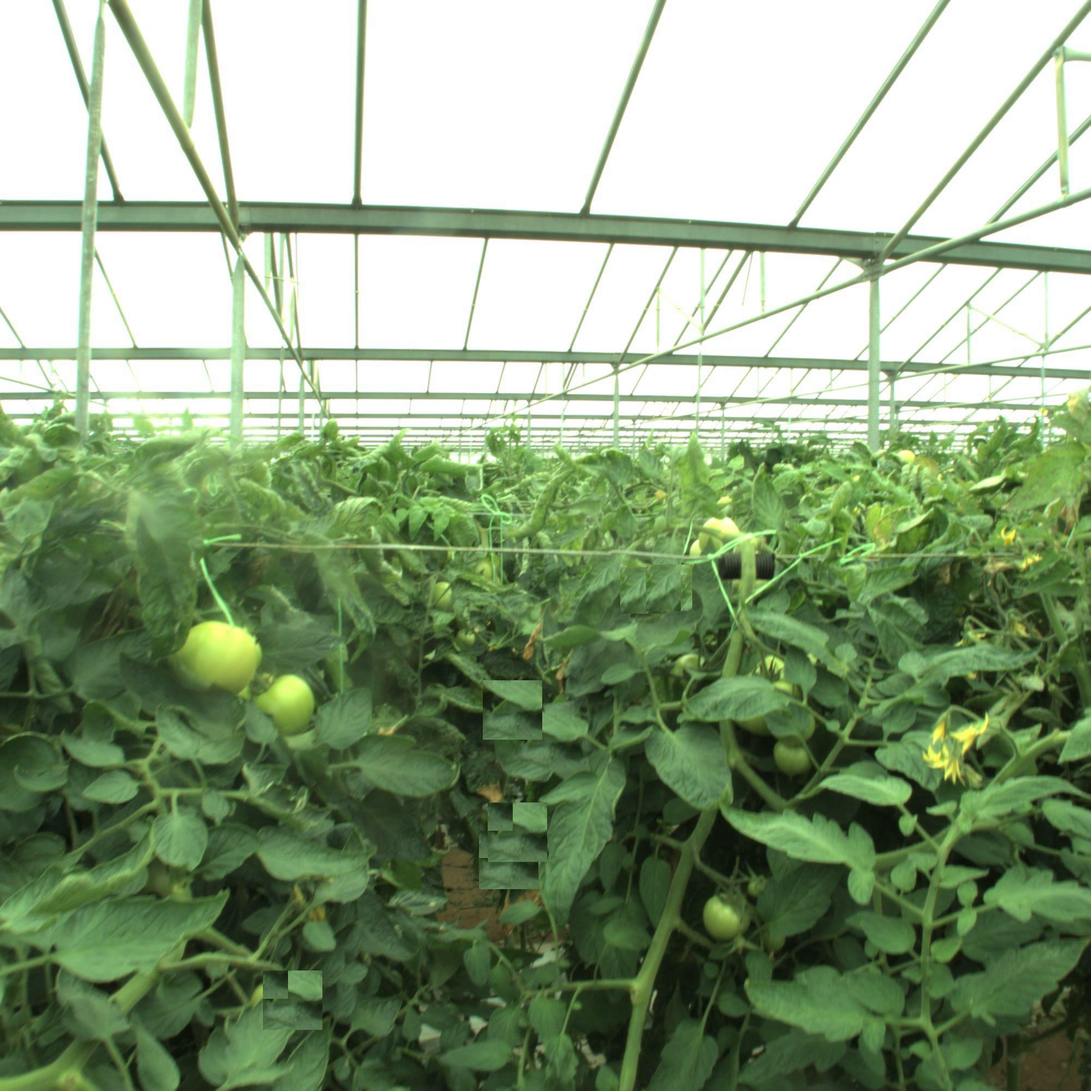unripe: (175, 615, 257, 698), (260, 674, 314, 729), (704, 891, 748, 936), (773, 739, 808, 774)
